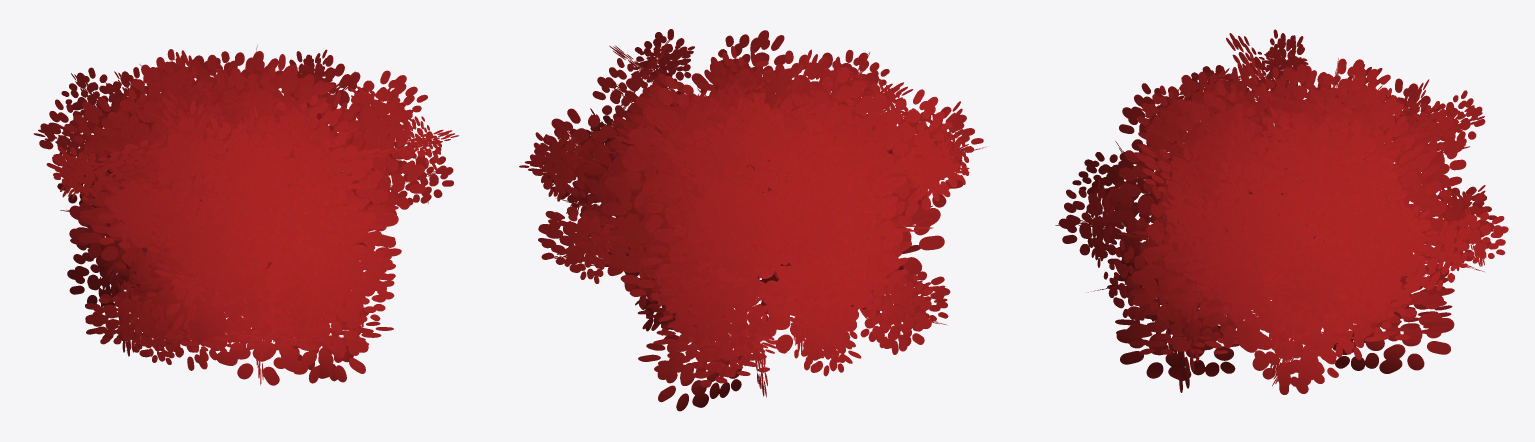
Rendered from shrub-natural.mid.quaternius.glb.
3 views of the same model, side by side, from view 1: azimuth 30°, elevation 25°; view 2: azimuth 150°, elevation 25°; view 3: azimuth 270°, elevation 25° (orthographic). The views are drawn at different scales.
Visible parts, largest first — view 1: Bush_Common; view 2: Bush_Common; view 3: Bush_Common.
Part boxes in pixels (box(x1,y1,x2,y2)): Bush_Common: box(33, 44, 458, 385); Bush_Common: box(519, 29, 986, 411); Bush_Common: box(1055, 29, 1508, 394).
Size of the model in its own units: 2.18 by 1.76 by 2.21.
Materials: 1 (1 with a texture image).
